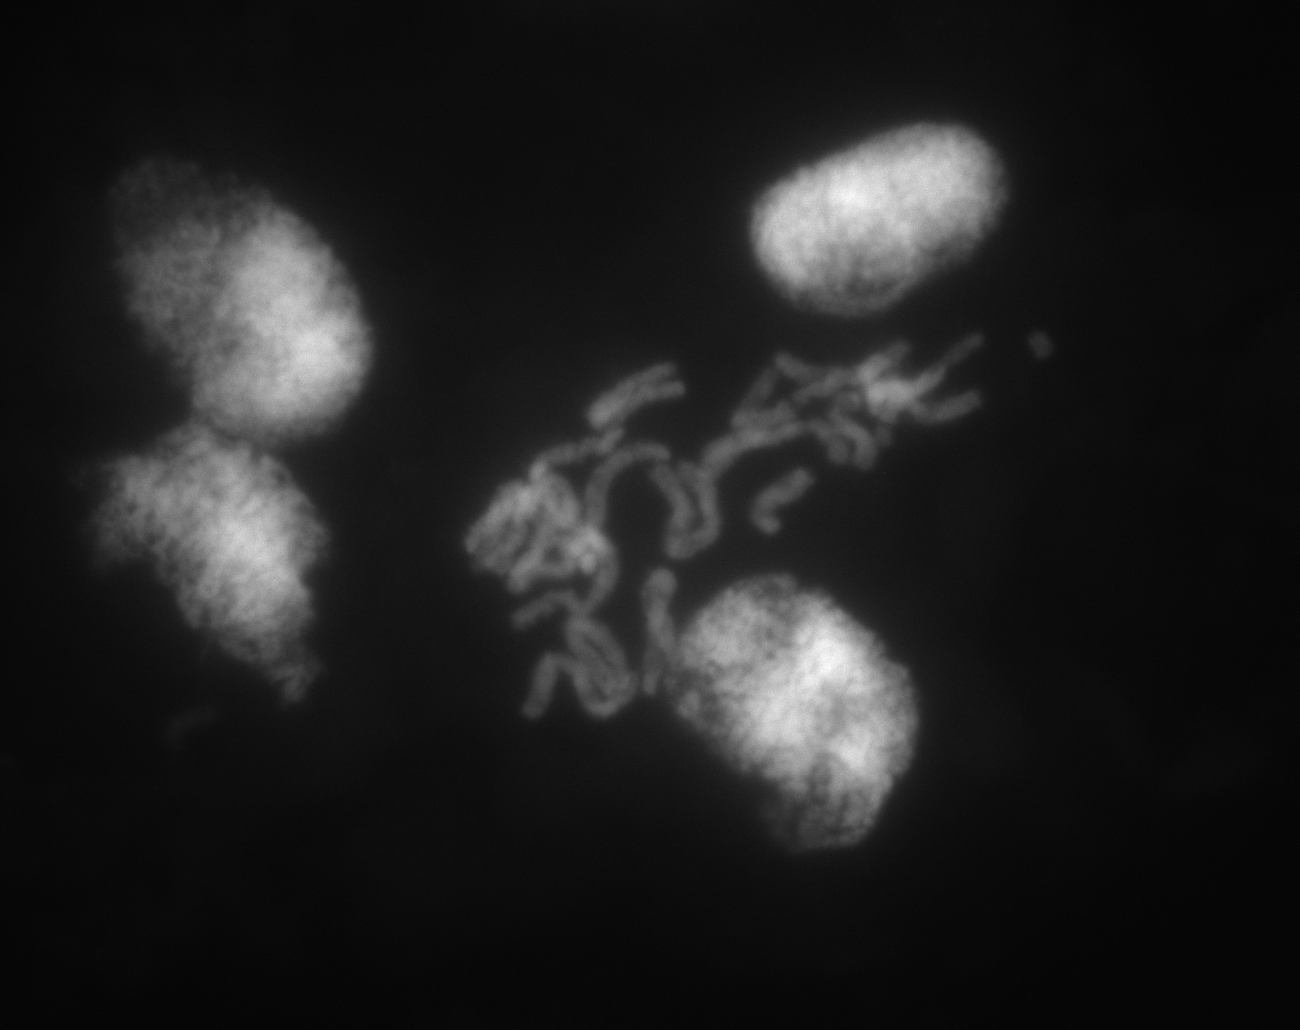Chromosomes: (387, 230, 1124, 835)
Others: (650, 546, 995, 909), (50, 414, 391, 765), (66, 127, 405, 461), (686, 74, 1055, 341)
